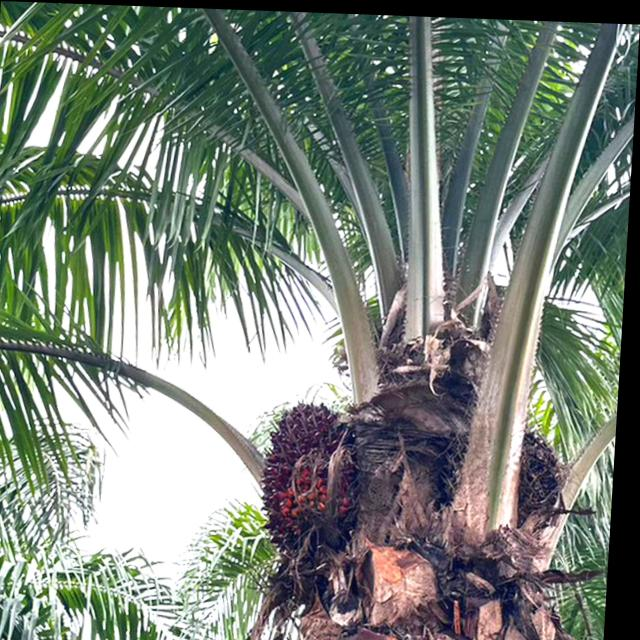ripe: (249, 384, 376, 547)
